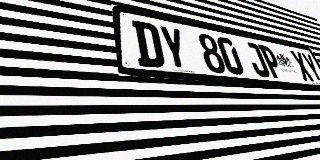0: (215, 36, 245, 75)
8: (196, 32, 228, 74)
D: (132, 20, 166, 68)
J: (243, 41, 271, 78)
P: (258, 44, 285, 79)
X: (289, 50, 315, 81)
Y: (158, 25, 191, 71), (300, 52, 320, 82)
